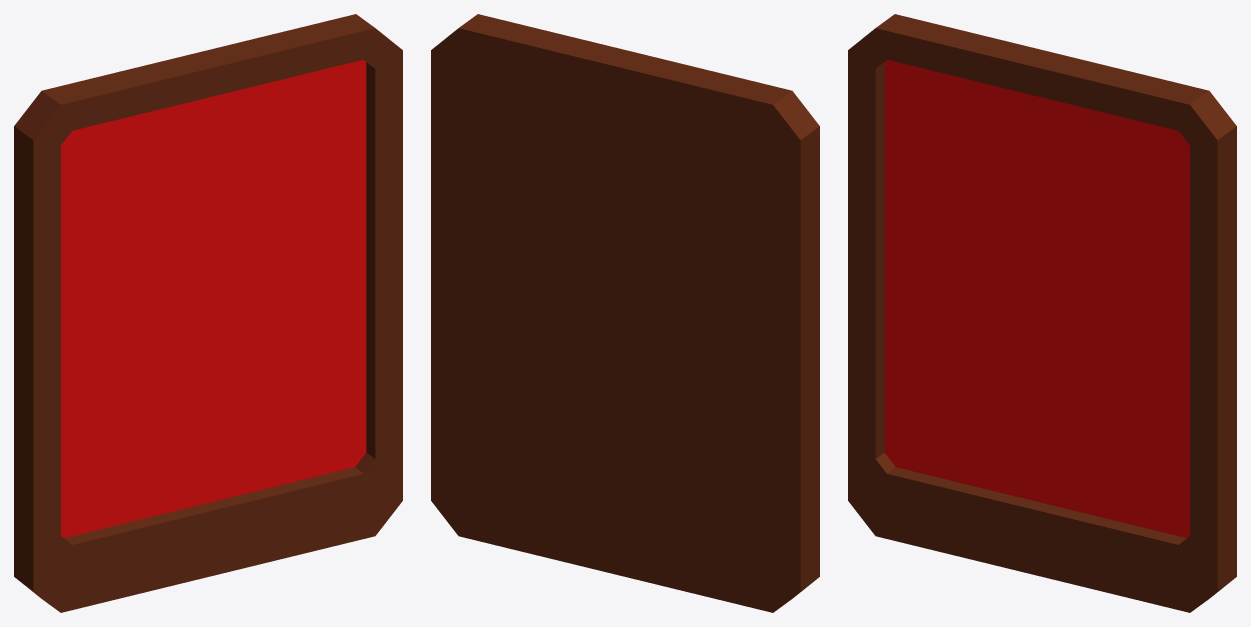
File: Tablet.FBX
3 renders of one model, left to right at view 1: azimuth 30°, elevation 25°; view 2: azimuth 150°, elevation 25°; view 3: azimuth 330°, elevation 25°, orthographic.
Parts seen in each view (by area): view 1: TabletHigh; view 2: TabletHigh; view 3: TabletHigh.
Boxes of the visible parts, x1,y1,x2,y2 form: TabletHigh: (14, 14, 402, 612); TabletHigh: (431, 14, 819, 612); TabletHigh: (848, 14, 1236, 612).
Size of the model in its own units: 47.94 by 63 by 4.34.
